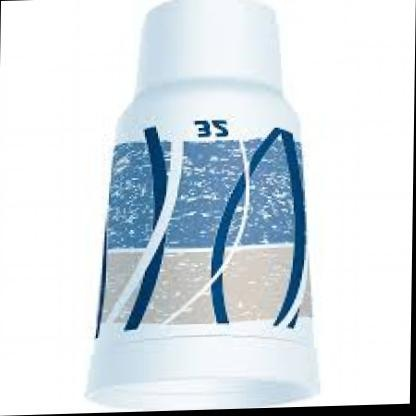trash: (90, 0, 317, 409)
